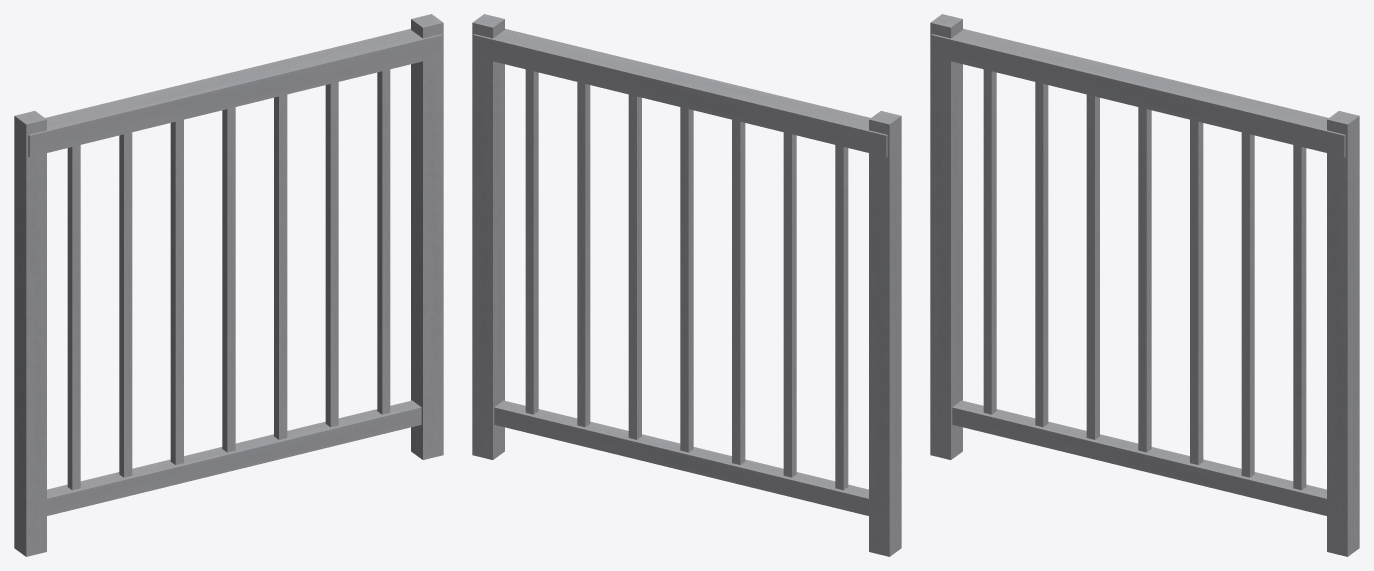
Rendered from Railing.fbx.
3 renders of one model, left to right at view 1: azimuth 30°, elevation 25°; view 2: azimuth 150°, elevation 25°; view 3: azimuth 330°, elevation 25°, orthographic.
Visible parts, largest first — view 1: Railing; view 2: Railing; view 3: Railing.
Boxes of the visible parts, x1,y1,x2,y2 form: Railing: (14,14,443,556); Railing: (472,14,901,556); Railing: (930,14,1359,556).
Size of the model in its own units: 1.01 by 1 by 0.06.
